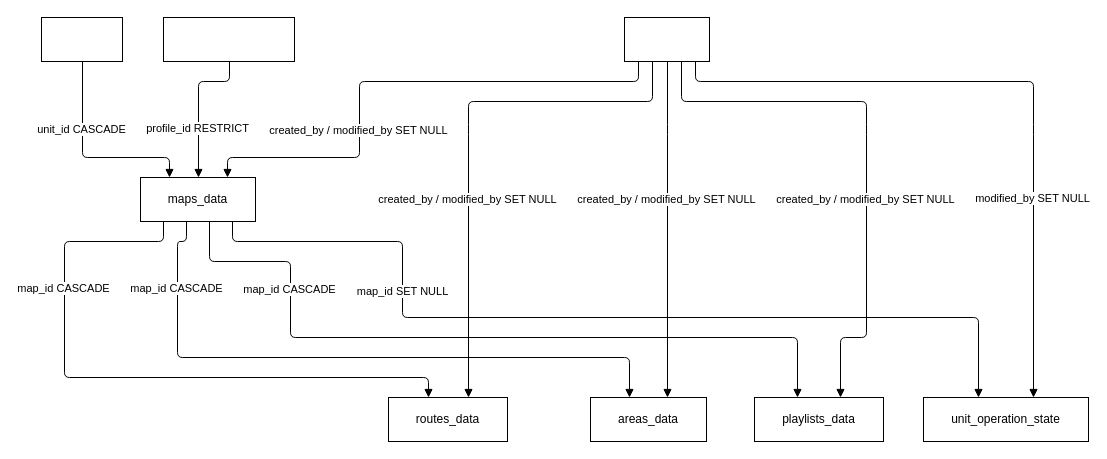
This 1107x459 diagram has some shape labels left out. The centre of each missing label's shape, as x and y in pixels:
"rental_profiles" belongs at (x=228, y=39).
"units" belongs at (x=81, y=39).
"users" belongs at (x=667, y=39).
